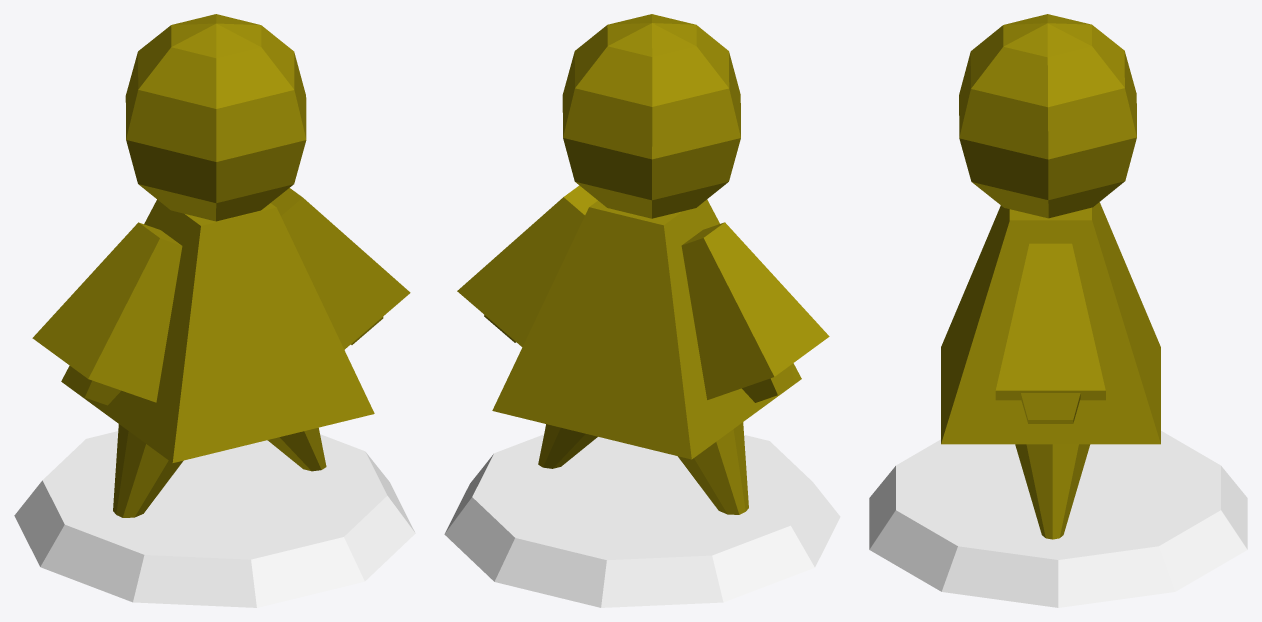
Rendered from SM_Figurine.fbx.
3 renders of one model, left to right at view 1: azimuth 30°, elevation 25°; view 2: azimuth 150°, elevation 25°; view 3: azimuth 270°, elevation 25°, orthographic.
Parts seen in each view (by area): view 1: pCylinder1; view 2: pCylinder1; view 3: pCylinder1.
Part boxes in pixels (x1=…): pCylinder1: x1=14, y1=14, x2=415, y2=607; pCylinder1: x1=444, y1=14, x2=840, y2=607; pCylinder1: x1=869, y1=14, x2=1247, y2=607.
Size of the model in its own units: 1.98 by 2.76 by 1.88.
